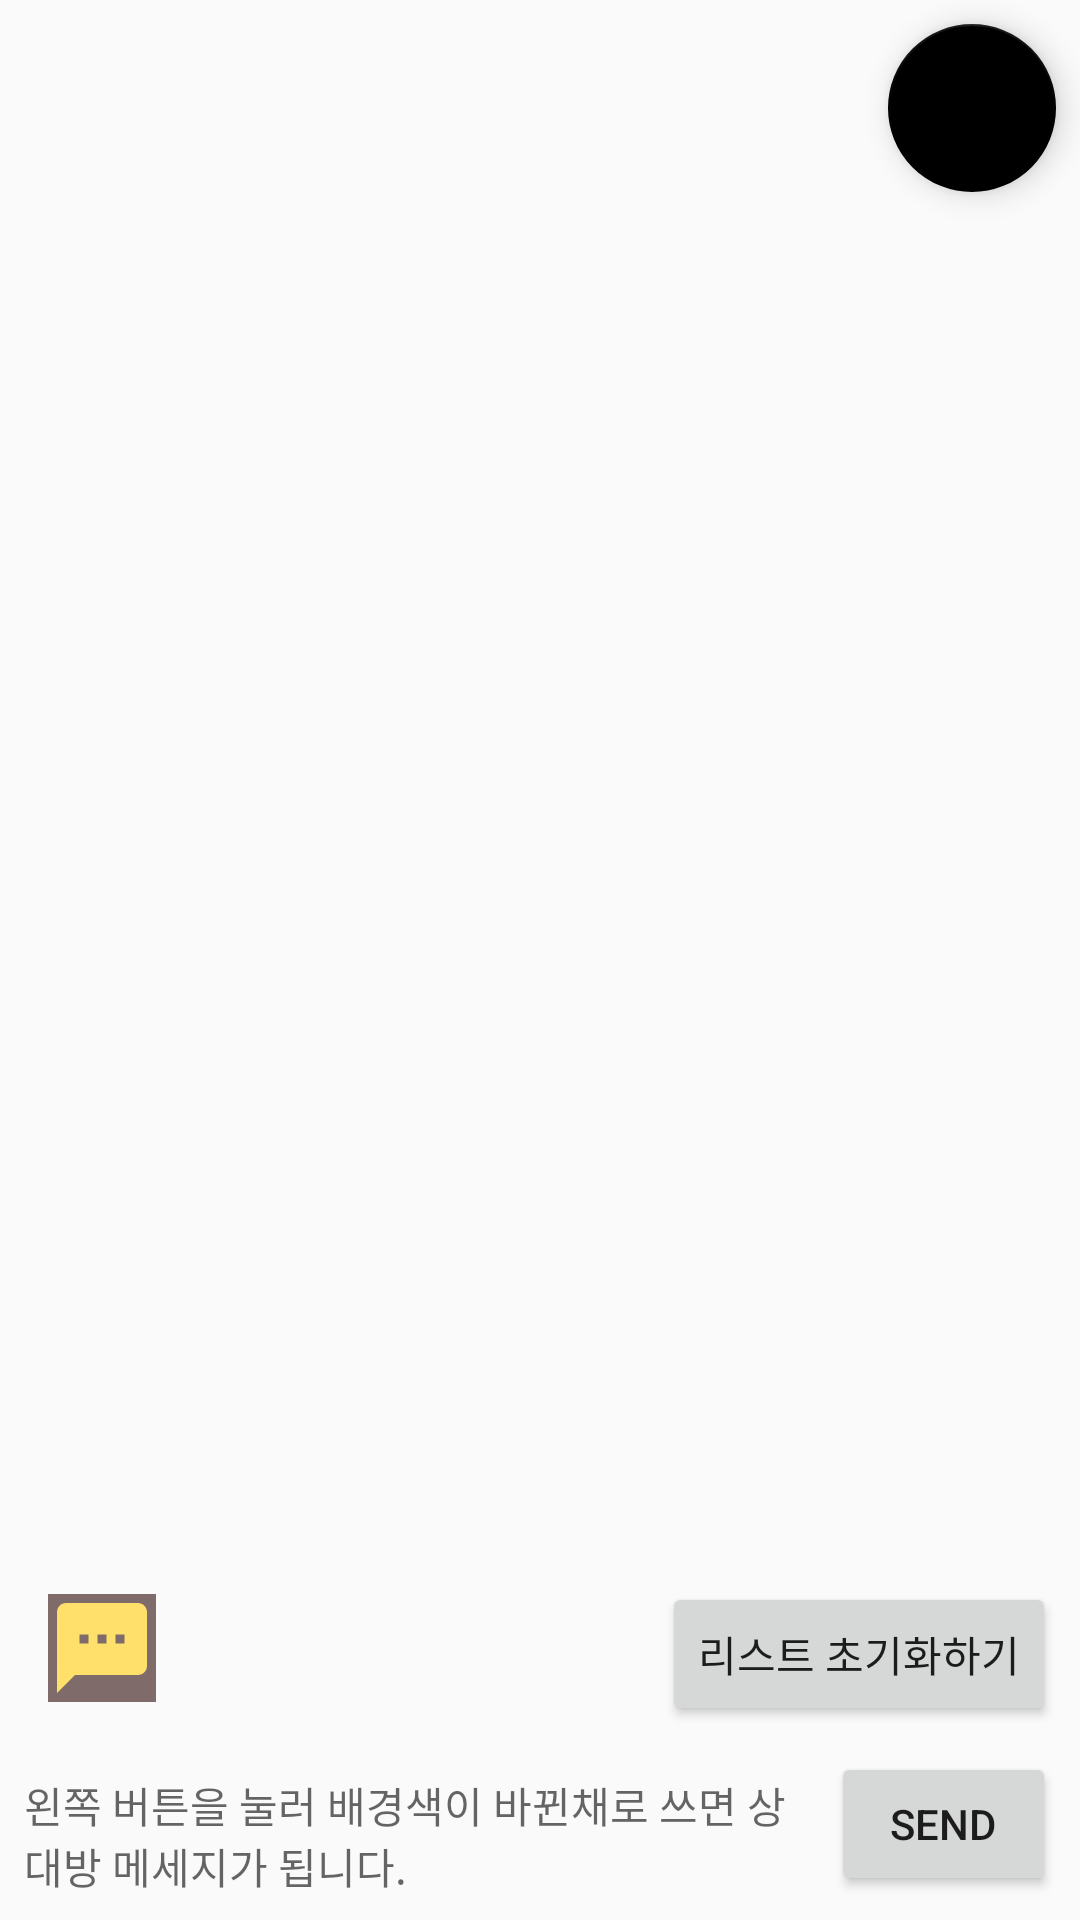

Locate icon controls on the screen. Image size 1080*1920, boxes as (x1, y1, x2, y2).
textsms: (48, 1594, 156, 1702)
